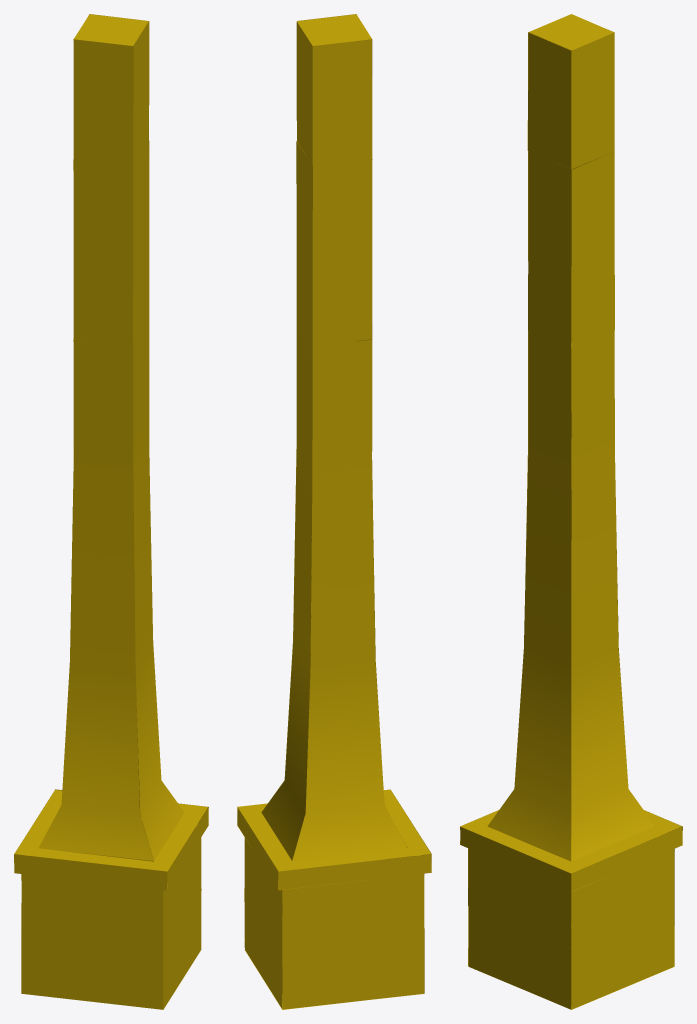
The model's file is original_3.obj.
3 renders of one model, left to right at view 1: azimuth 30°, elevation 25°; view 2: azimuth 150°, elevation 25°; view 3: azimuth 270°, elevation 25°, orthographic.
Visible parts, largest first — view 1: #ID26; view 2: #ID26; view 3: #ID26.
Boxes of the visible parts, <box> form: #ID26: <box>14,14,208,1009</box>; #ID26: <box>237,14,431,1009</box>; #ID26: <box>460,14,682,1009</box>.
Bounding box in the file's own units: 0.108 × 0.4995 × 0.1079.
